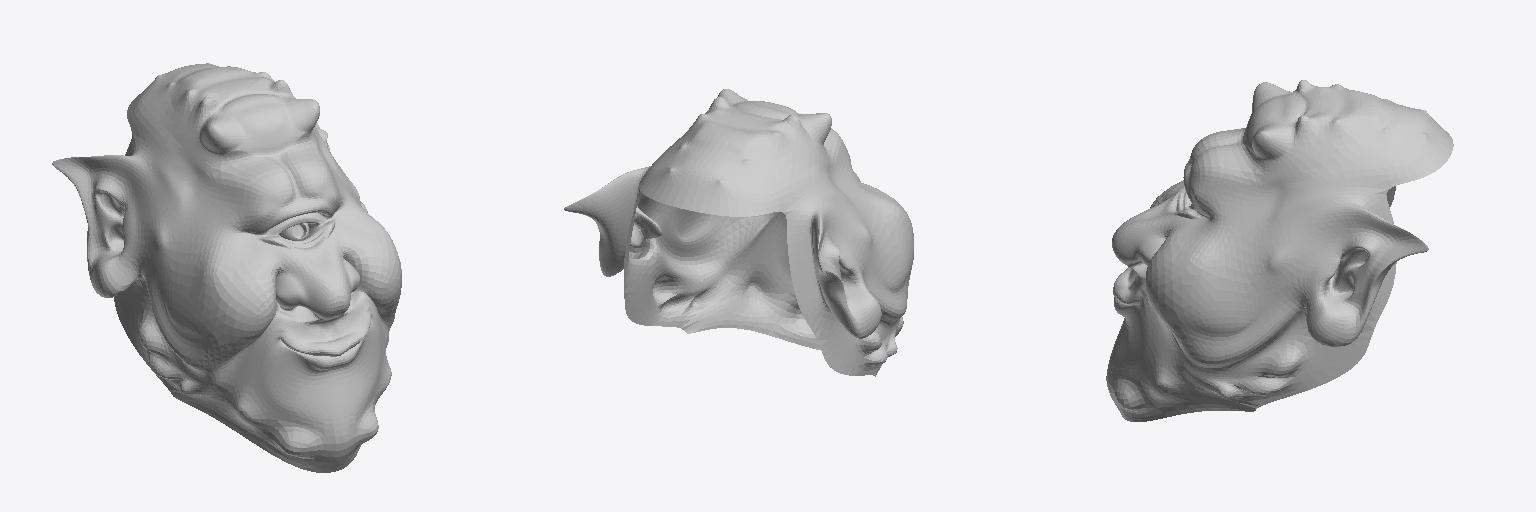
Rendered from ogreface.obj.
The picture shows the model from 3 angles: view 1: azimuth 30°, elevation 25°; view 2: azimuth 150°, elevation 25°; view 3: azimuth 270°, elevation 25°; orthographic projection.
Parts seen in each view (by area): view 1: bs_smile; view 2: bs_smile; view 3: bs_smile.
Part boxes in pixels (x1,y1,x2,y2): bs_smile: (52,63,401,472); bs_smile: (564,89,913,376); bs_smile: (1106,80,1453,421).
Bounding box in the file's own units: 1.06 × 1.19 × 1.18.